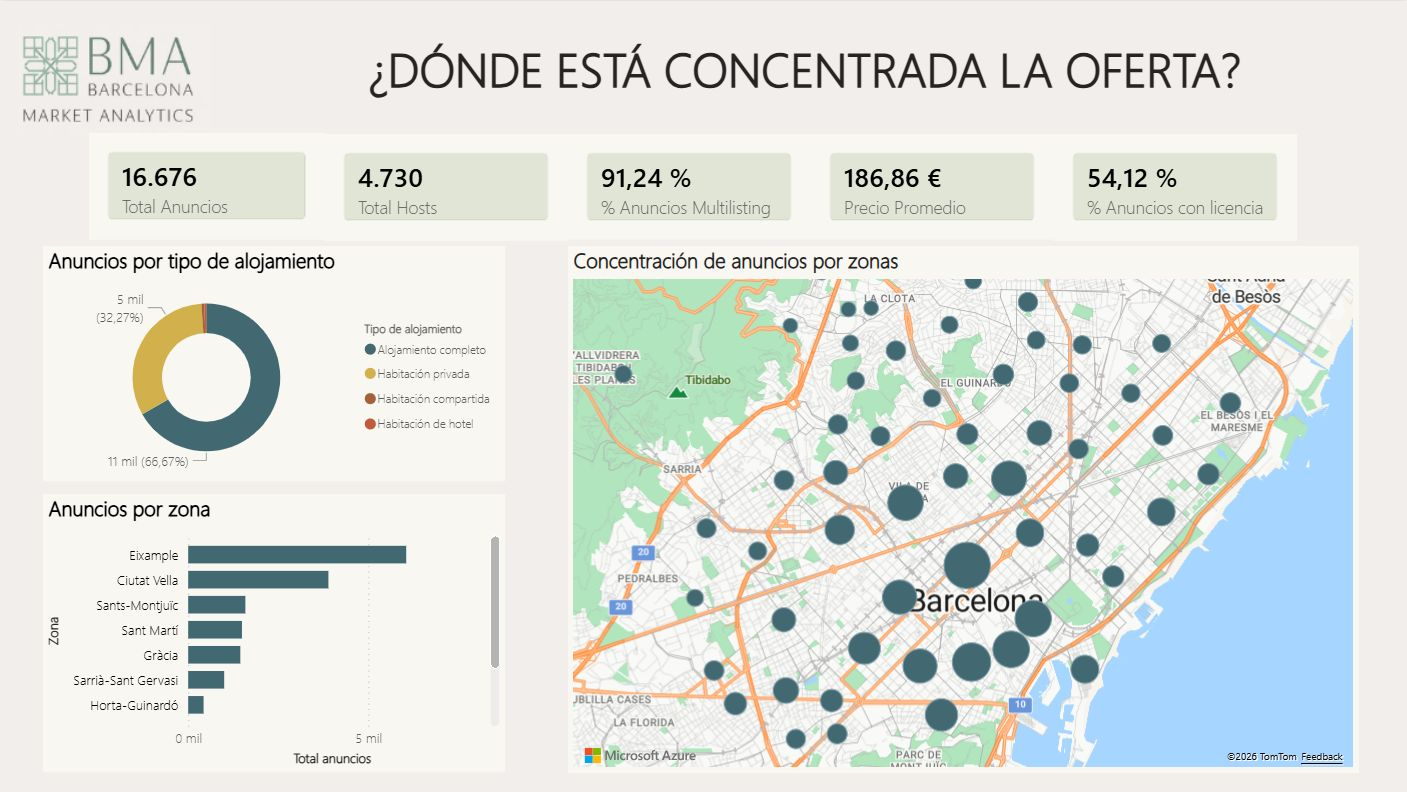

What the dashboard file says about the page in this screenshot:
{"tool":"powerbi","page":{"name":"Página 1","canvas":[1280,720],"ordinal":1},"visuals":[{"type":"cardVisual","fields":{"Data":["Medidas.Total Anuncios"]},"box":[80.8,120.3,214.6,97],"z":0},{"type":"cardVisual","fields":{"Data":["Medidas.Total Hosts"]},"box":[295.4,121.2,220.8,97],"z":1000},{"type":"cardVisual","fields":{"Data":["Medidas.% Multilisting"]},"box":[516.2,121.2,220.8,96.1],"z":2000},{"type":"cardVisual","fields":{"Data":["Medidas.Precio Promedio"]},"box":[737.1,121.2,220.8,96.1],"z":3000},{"type":"cardVisual","fields":{"Data":["Medidas.% Con Licencia"]},"box":[957.9,121.2,220.8,97],"z":4000},{"type":"donutChart","title":"Anuncios por tipo de alojamiento","fields":{"Category":["airbnb_barcelona_2025 dim_tipo_alojamiento.tipo_alojamiento"],"Y":["Medidas.Total Anuncios"]},"box":[39,223,420,214],"z":5000},{"type":"clusteredBarChart","title":"Anuncios por zona","fields":{"Category":["airbnb_barcelona_2025 dim_barrio.zona"],"Y":["Medidas.Total Anuncios"]},"box":[39,448,420,253],"z":6000},{"type":"azureMap","title":"Concentración de anuncios por zonas","fields":{"Y":["Avg(airbnb_barcelona_2025 dim_barrio.latitud_centroide)"],"X":["Avg(airbnb_barcelona_2025 dim_barrio.longitud_centroide)"],"Size":["Medidas.Total Anuncios"],"Category":["airbnb_barcelona_2025 dim_barrio.barrio"]},"box":[516.2,222.6,719.1,478.5],"z":7000},{"type":"textbox","box":[183.1,26.9,1096.9,73.7],"z":8000}]}

Visuals, with their boxes in screenshot pixels (x1, y1, x2, y2), scaled from the page's 1280x720 canvas onto the 1407x792 screenshot:
cardVisual - Medidas.Total Anuncios: 89, 132, 325, 239
cardVisual - Medidas.Total Hosts: 325, 133, 567, 240
cardVisual - Medidas.% Multilisting: 567, 133, 810, 239
cardVisual - Medidas.Precio Promedio: 810, 133, 1053, 239
cardVisual - Medidas.% Con Licencia: 1053, 133, 1296, 240
"Anuncios por tipo de alojamiento" donutChart: 43, 245, 505, 481
"Anuncios por zona" clusteredBarChart: 43, 493, 505, 771
"Concentración de anuncios por zonas" azureMap: 567, 245, 1358, 771
textbox: 201, 30, 1406, 111
